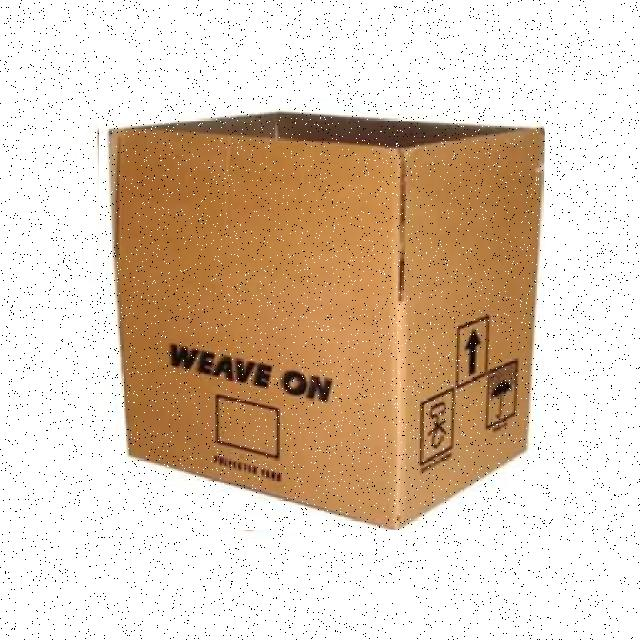defect: (98, 92, 544, 530)
